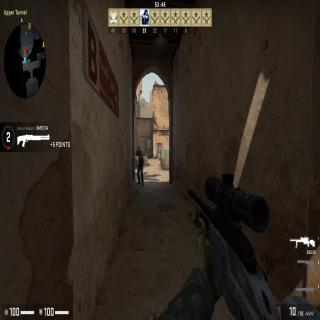T-Body: (136, 144, 144, 187)
T-Head: (137, 145, 141, 153)
